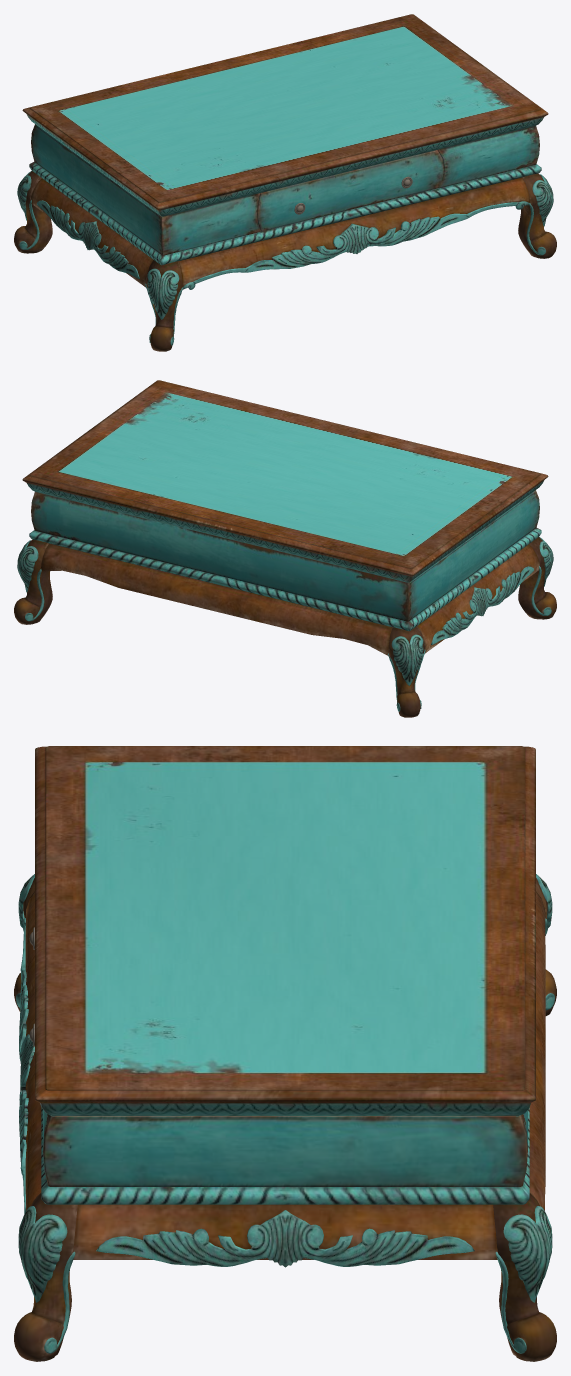
Rendered from th_couchtisch.glb.
3 views of the same model, one above another, from view 1: azimuth 30°, elevation 25°; view 2: azimuth 150°, elevation 25°; view 3: azimuth 270°, elevation 25° (orthographic). The views are drawn at different scales.
Visible parts, largest first — view 1: CoffeeTable_01; view 2: CoffeeTable_01; view 3: CoffeeTable_01.
Boxes of the visible parts, box(x1,y1,x2,y2) form: CoffeeTable_01: box(14, 14, 556, 351); CoffeeTable_01: box(14, 380, 556, 717); CoffeeTable_01: box(14, 746, 556, 1361).
Bounding box in the file's own units: 1.54 × 0.5232 × 0.9728.
1 material, 1 textured.
